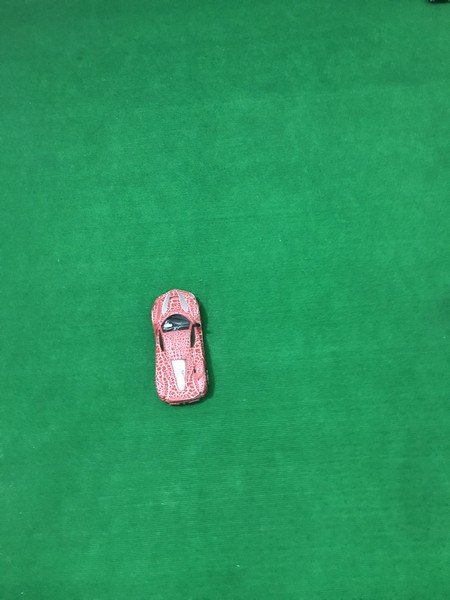RC: (148, 288, 212, 407)
